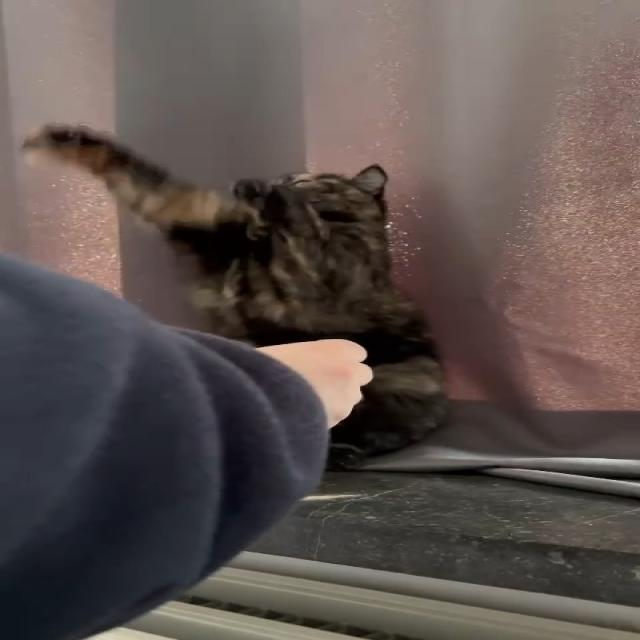authorized: (20, 121, 451, 471)
